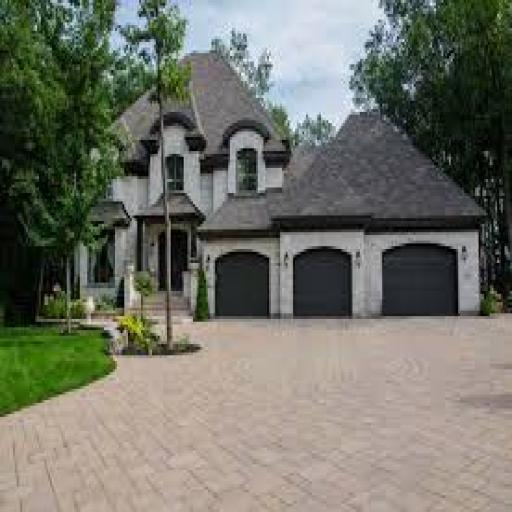casa: (54, 37, 483, 320)
